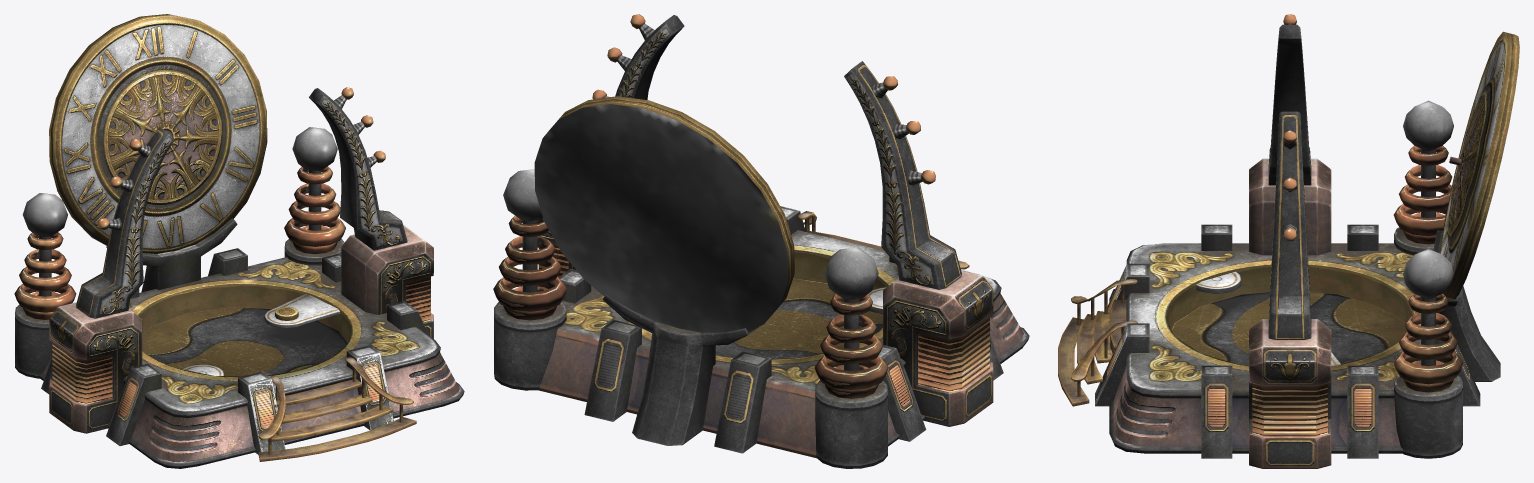
The picture shows the model from 3 angles, left to right: view 1: azimuth 30°, elevation 25°; view 2: azimuth 150°, elevation 25°; view 3: azimuth 270°, elevation 25°; orthographic projection. The views are drawn at different scales.
Visible parts, largest first — view 1: TimePortalSteampunk_L1_30_1; view 2: TimePortalSteampunk_L1_30_1; view 3: TimePortalSteampunk_L1_30_1.
Boxes of the visible parts, box(x1,y1,x2,y2) form: TimePortalSteampunk_L1_30_1: box(14, 14, 464, 468); TimePortalSteampunk_L1_30_1: box(493, 14, 1029, 468); TimePortalSteampunk_L1_30_1: box(1058, 14, 1519, 468).
Bounding box in the file's own units: 9.12 × 7 × 9.
